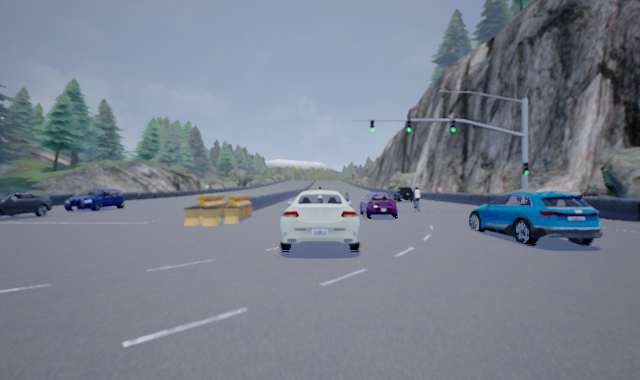bike: (412, 186, 422, 214)
vehicle: (468, 190, 603, 247), (279, 188, 360, 253), (58, 188, 125, 210), (1, 191, 52, 218), (358, 192, 400, 220), (393, 187, 414, 201)
